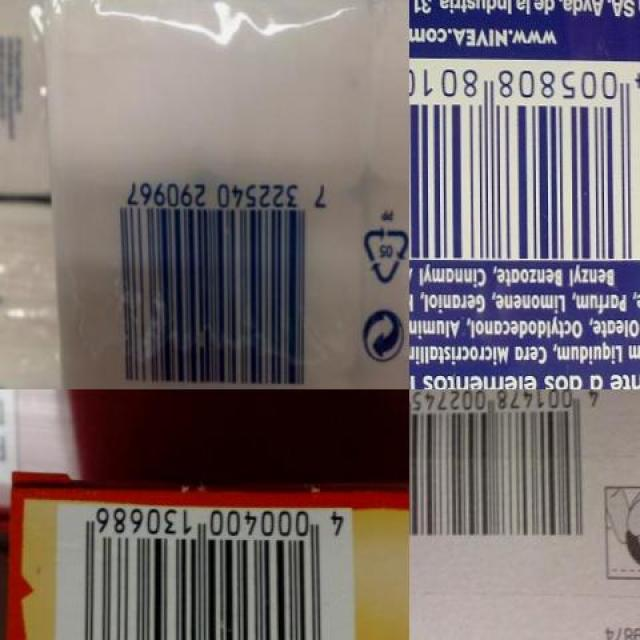Barcode: (89, 151, 336, 389), (409, 59, 640, 260), (50, 500, 358, 640), (409, 389, 602, 556)
